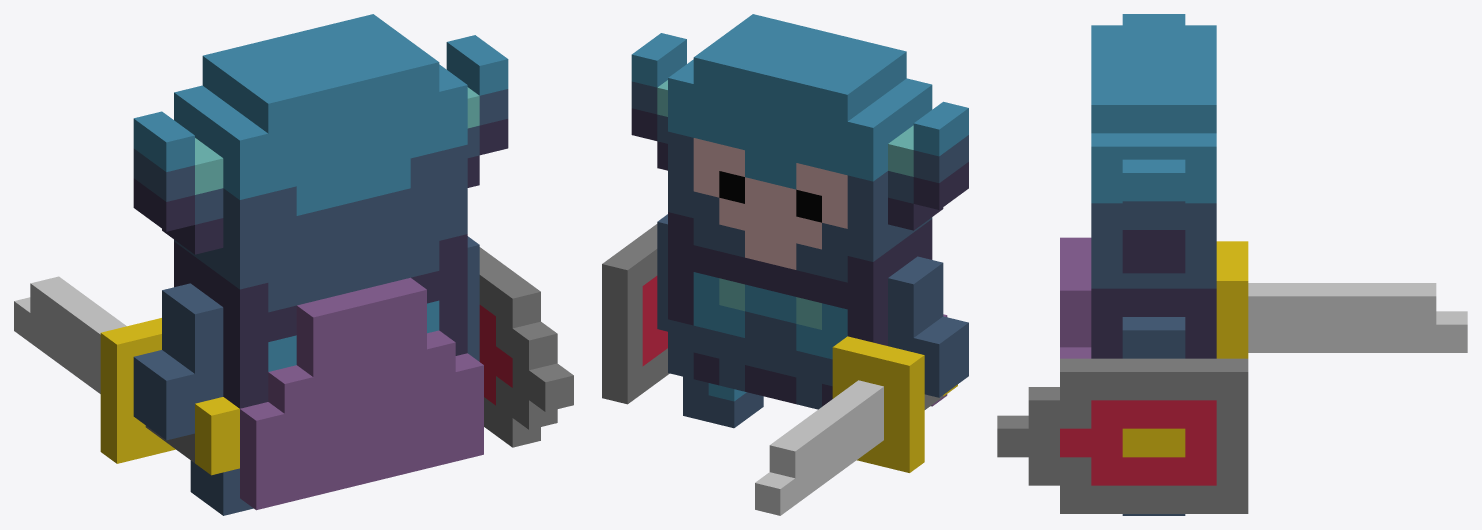
The model's file is caballero.dae.
3 views of the same model, side by side, from view 1: azimuth 30°, elevation 25°; view 2: azimuth 150°, elevation 25°; view 3: azimuth 270°, elevation 25° (orthographic). The views are drawn at different scales.
Parts seen in each view (by area): view 1: caballero; view 2: caballero; view 3: caballero.
Part boxes in pixels (bbox=[...]): caballero: bbox=[14, 14, 573, 515]; caballero: bbox=[602, 14, 968, 515]; caballero: bbox=[997, 14, 1467, 515].
Bounding box in the file's own units: 12 × 15 × 14.
1 material, 1 textured.
